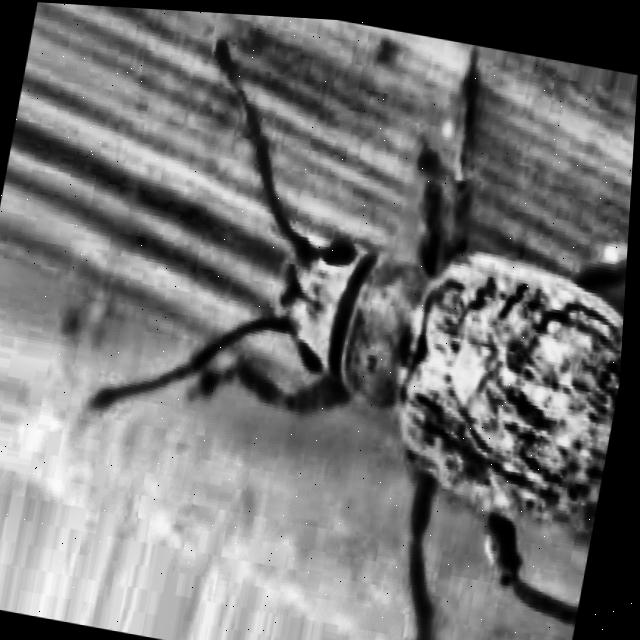Stink bug: (160, 75, 637, 640)
